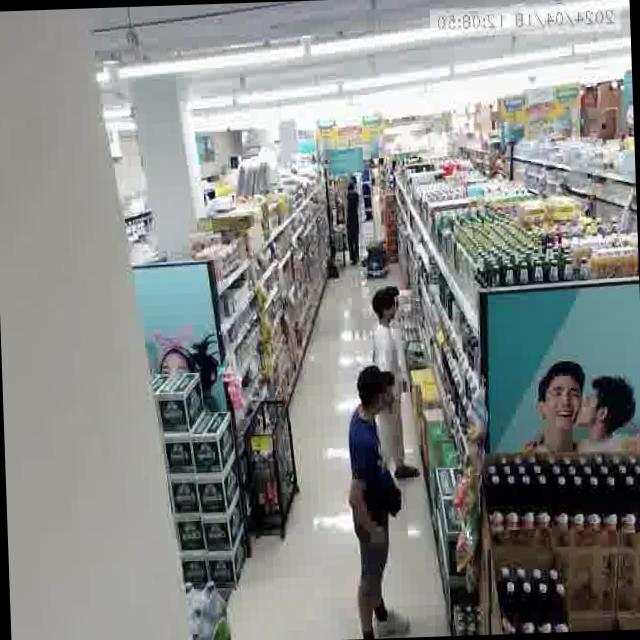shoplifting: (333, 350, 422, 640)
